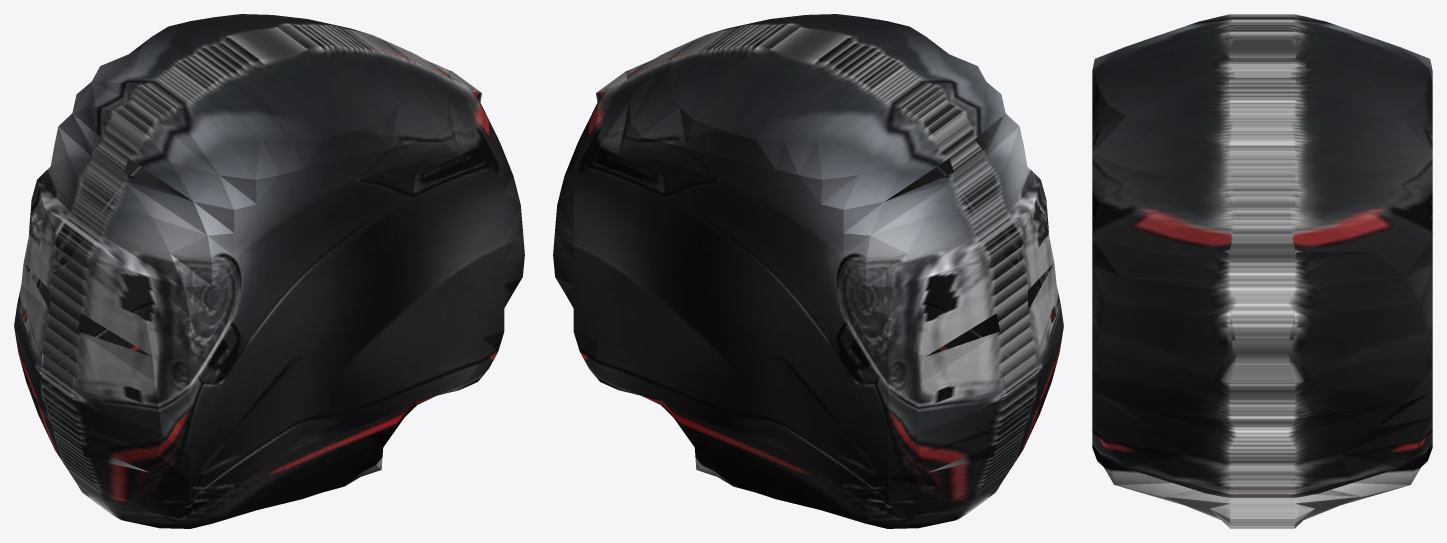
File: forma-vector-full-face-helmet-050.glb
The picture shows the model from 3 angles, left to right: view 1: azimuth 30°, elevation 25°; view 2: azimuth 150°, elevation 25°; view 3: azimuth 270°, elevation 25°; orthographic projection. The views are drawn at different scales.
Visible parts, largest first — view 1: world; view 2: world; view 3: world.
Part boxes in pixels (left/top/right/bottom): world: left=14, top=14, right=524, bottom=528; world: left=553, top=14, right=1063, bottom=528; world: left=1092, top=14, right=1432, bottom=528.
Bounding box in the file's own units: 1 × 0.9649 × 0.64.
Materials: 1 (1 with a texture image).
